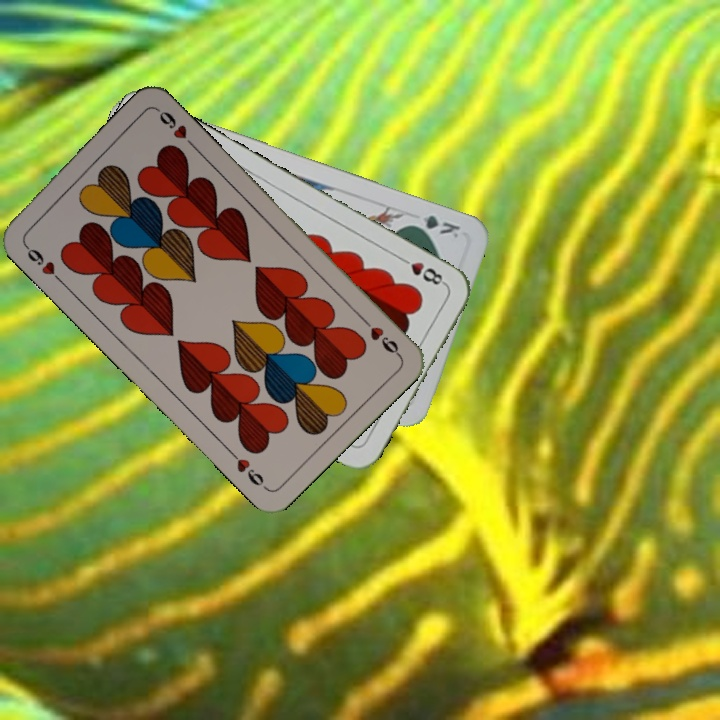GK: (405, 211, 463, 241)
H8: (394, 252, 449, 288)
H9: (19, 239, 65, 286), (357, 313, 403, 359)
